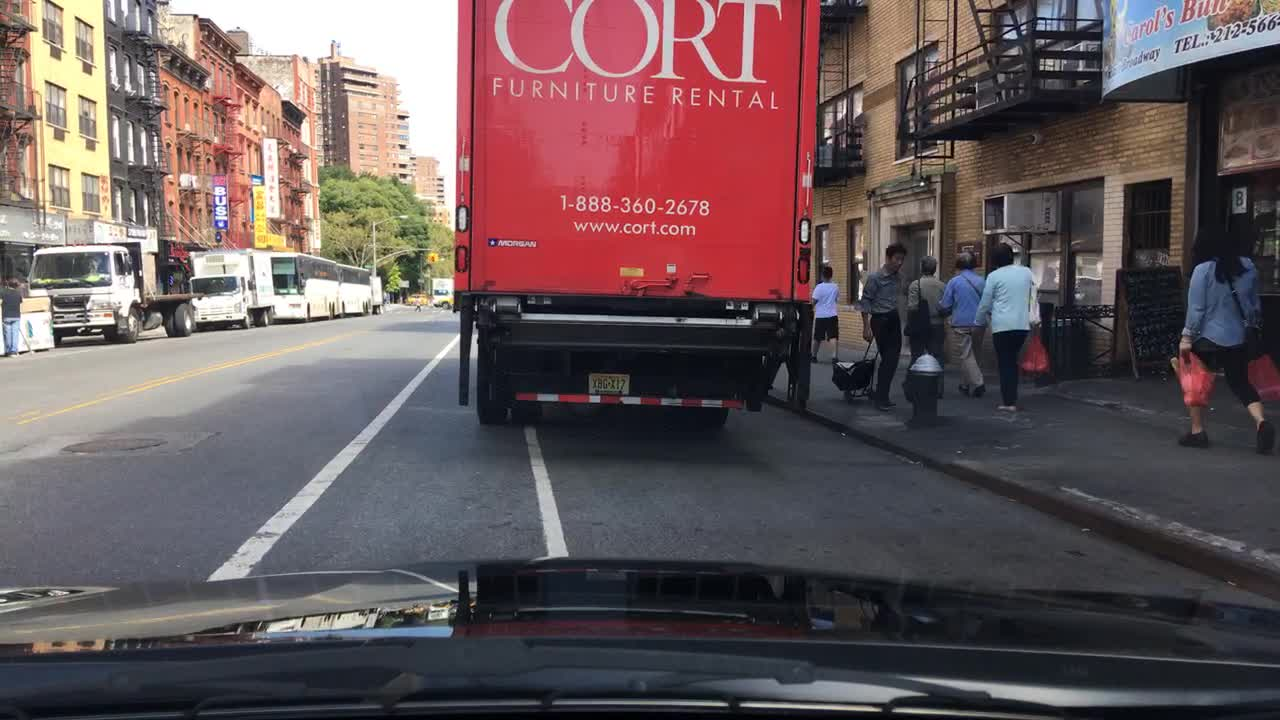bus: (269, 250, 372, 321)
car: (429, 289, 453, 310), (406, 293, 427, 307)
person: (1173, 220, 1275, 454), (971, 240, 1041, 413), (860, 240, 909, 410), (934, 250, 990, 397), (903, 254, 945, 399), (811, 263, 839, 363), (1, 278, 21, 358), (413, 297, 422, 312)
traffic light: (427, 253, 435, 262)
truck: (450, 0, 820, 431), (24, 238, 204, 343), (188, 248, 275, 330)
